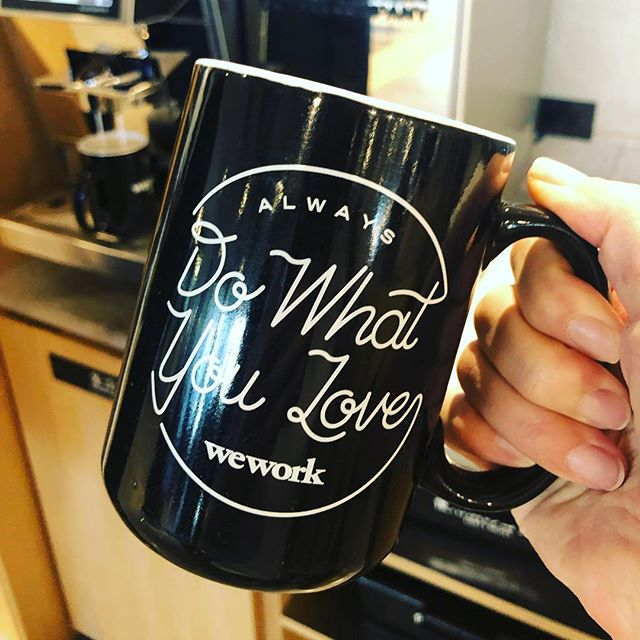wework: (198, 436, 330, 487)
